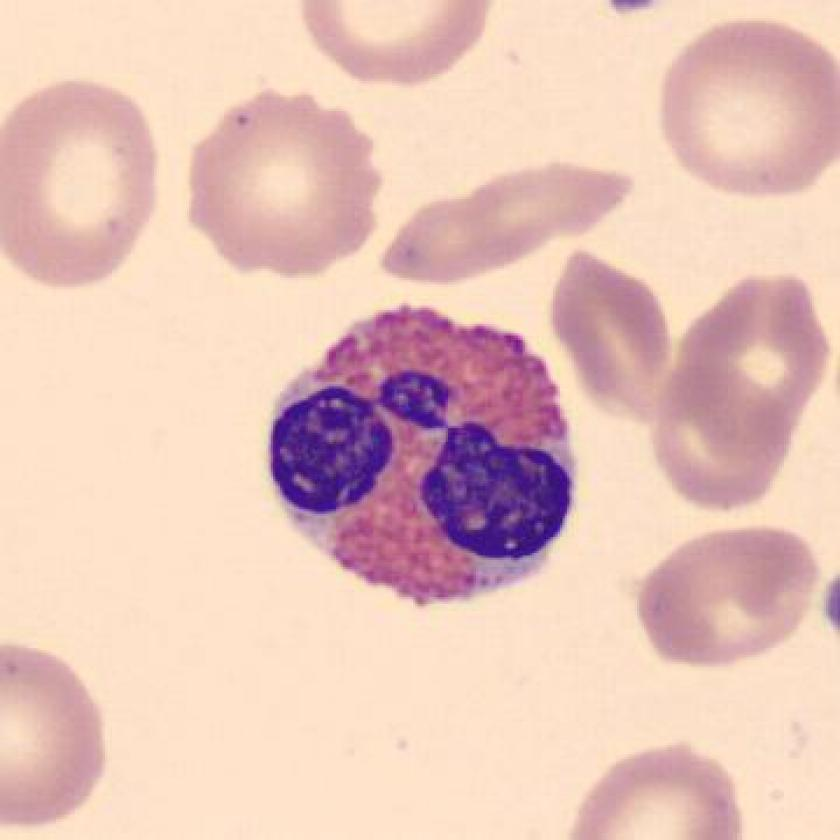eosinophil: (260, 293, 591, 624)
